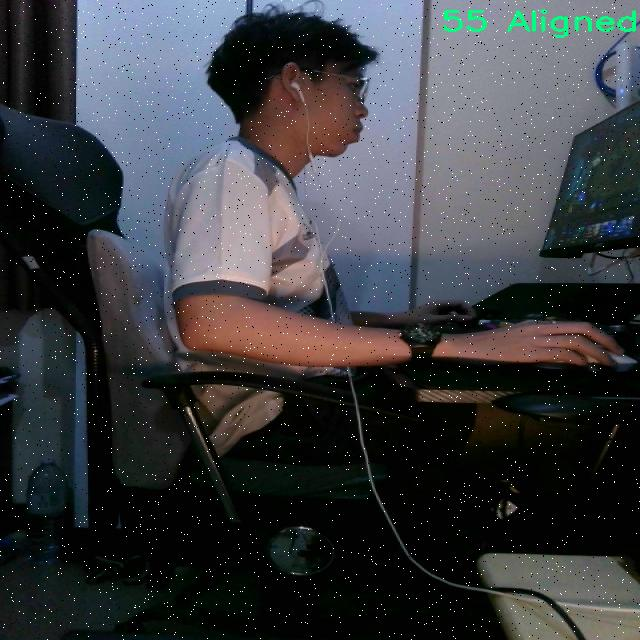Good: (160, 0, 415, 481)
